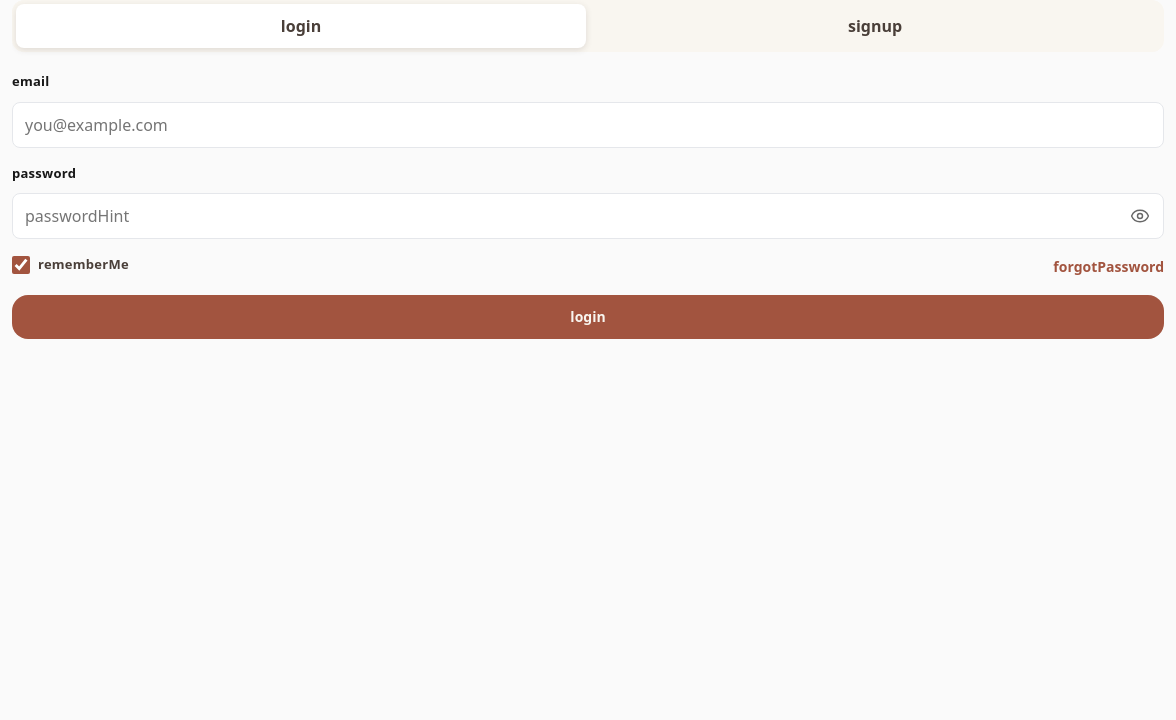
Scenario: AuthForm › toggles between login and signup modes
The image size is (1176, 720).
Click the button "signup".
click(875, 26)  # box [590,4,1160,48]
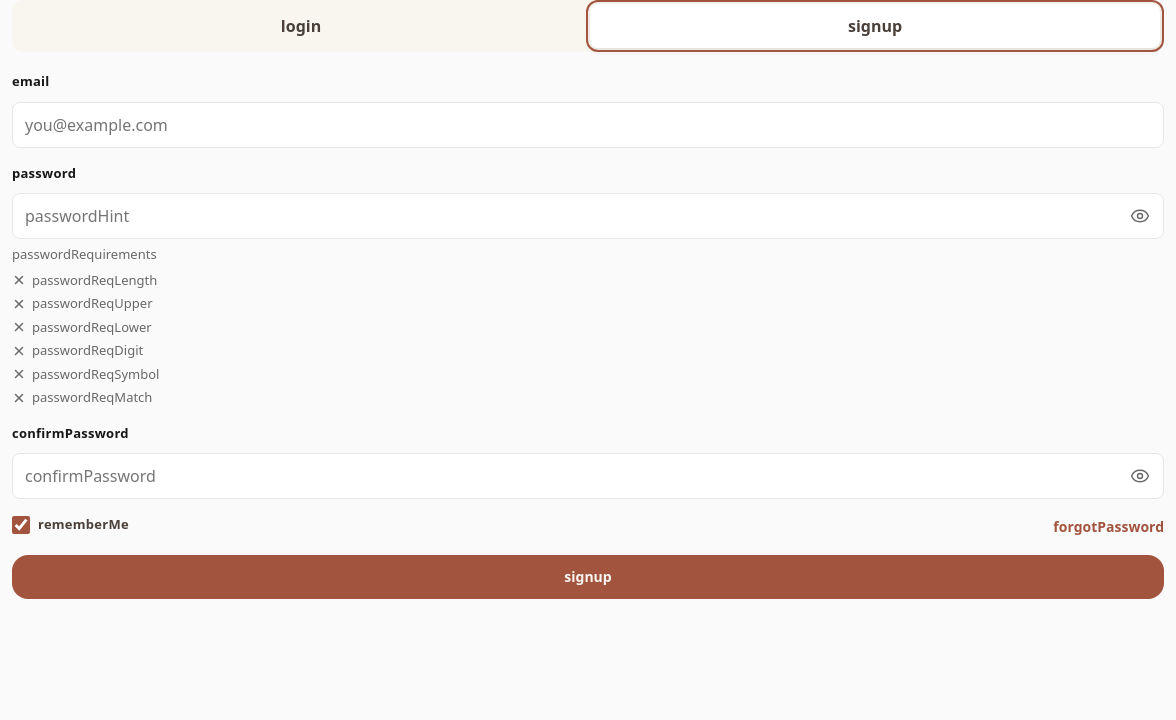
Result: the form named "signup" is shown
Click the button "login".
click(301, 26)  # box [16,4,586,48]
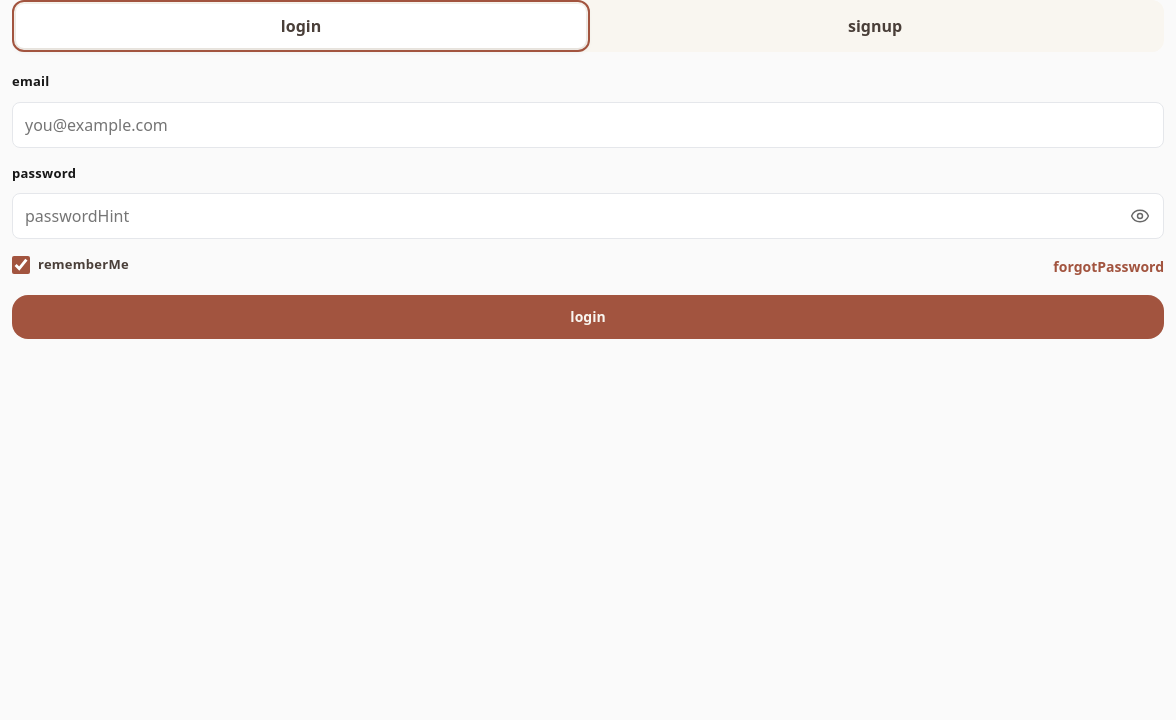
Result: the form "login" is shown at [12,72,1164,338]
